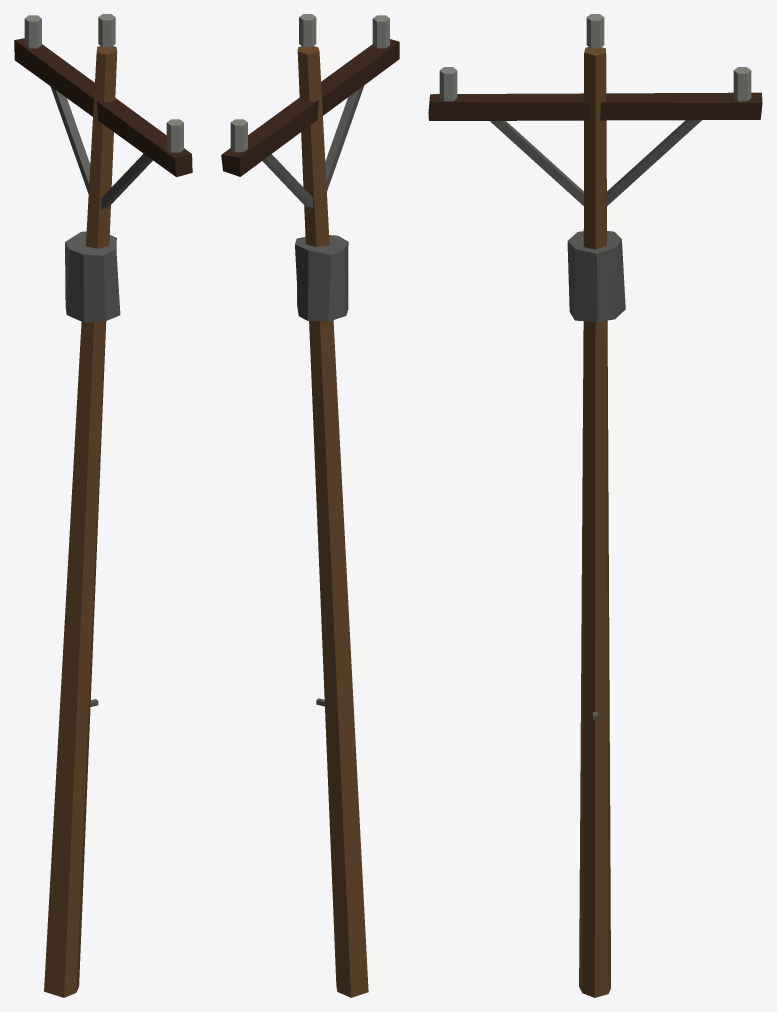
Rendered from power_pole.glb.
3 renders of one model, left to right at view 1: azimuth 30°, elevation 25°; view 2: azimuth 150°, elevation 25°; view 3: azimuth 270°, elevation 25°, orthographic. The views are drawn at different scales.
Visible parts, largest first — view 1: power_pole; view 2: power_pole; view 3: power_pole.
Part boxes in pixels (left/top/right/bottom): power_pole: left=14, top=14, right=192, bottom=997; power_pole: left=221, top=14, right=399, bottom=997; power_pole: left=428, top=14, right=762, bottom=997.
Bounding box in the file's own units: 0.6765 × 8.6 × 2.61.
